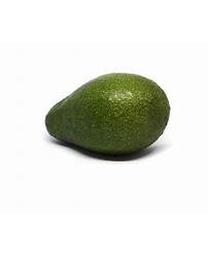avocado: (45, 73, 170, 153)
